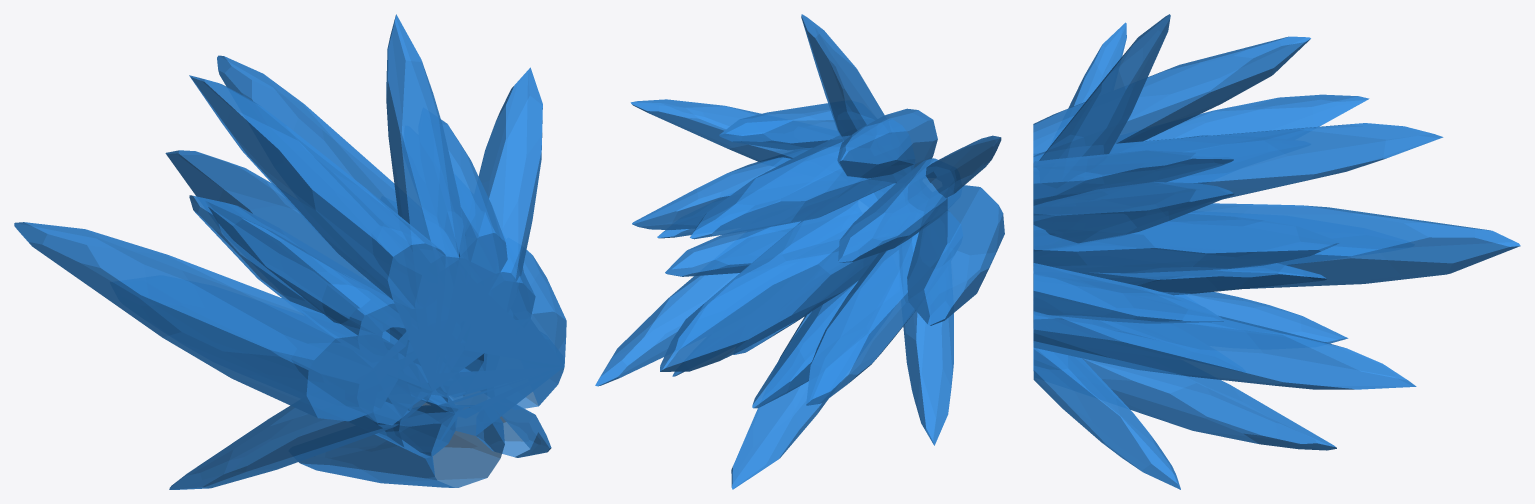
The model's file is waterCristal.fbx.
The picture shows the model from 3 angles, left to right: view 1: azimuth 30°, elevation 25°; view 2: azimuth 150°, elevation 25°; view 3: azimuth 270°, elevation 25°; orthographic projection. The views are drawn at different scales.
Parts seen in each view (by area): view 1: Icosphere; view 2: Icosphere; view 3: Icosphere.
Boxes of the visible parts, x1,y1,x2,y2 form: Icosphere: (14,14,566,489); Icosphere: (595,14,1004,489); Icosphere: (1033,14,1520,489).
Size of the model in its own units: 283 by 309 by 310.
